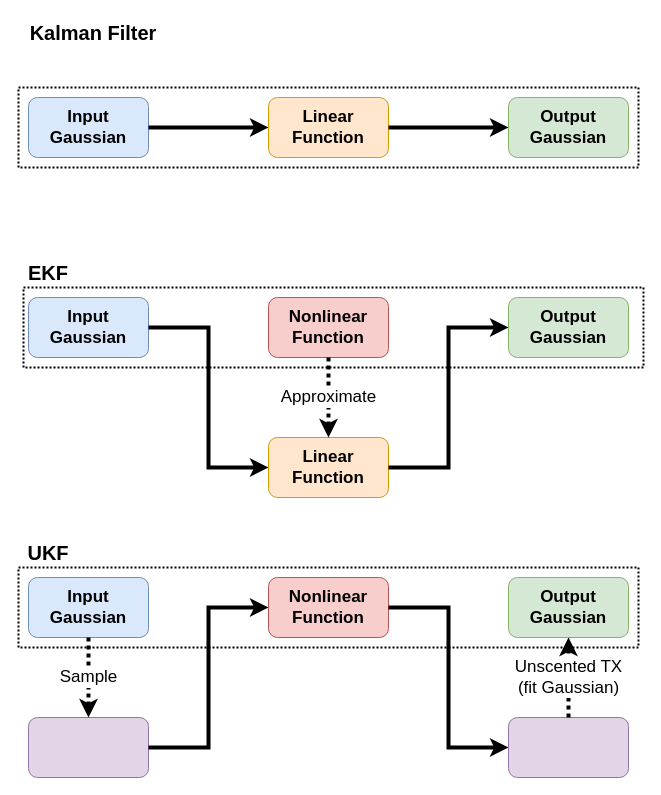
This 661x795 diagram has some shape labels left out. Here are the shapes that lost their labels. From the top down, the centre of each, then its label:
At pixel 88 747: "Input Sigma Points".
At pixel 568 747: "Output Sigma Points".
